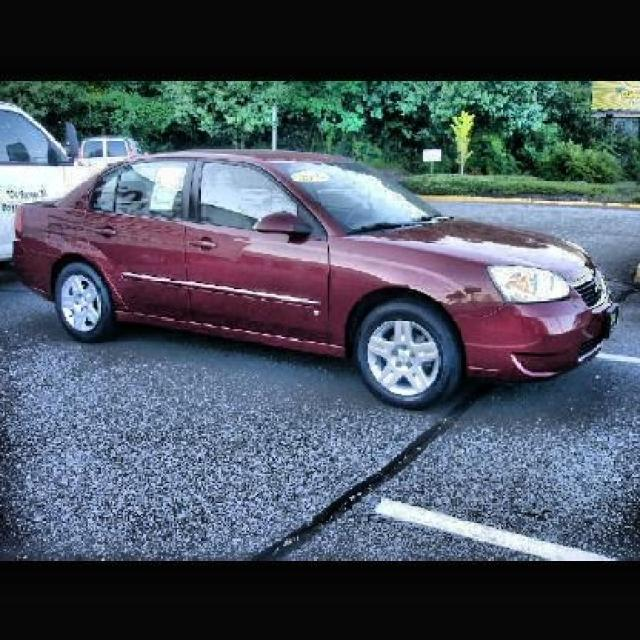maroon: (13, 150, 616, 411)
